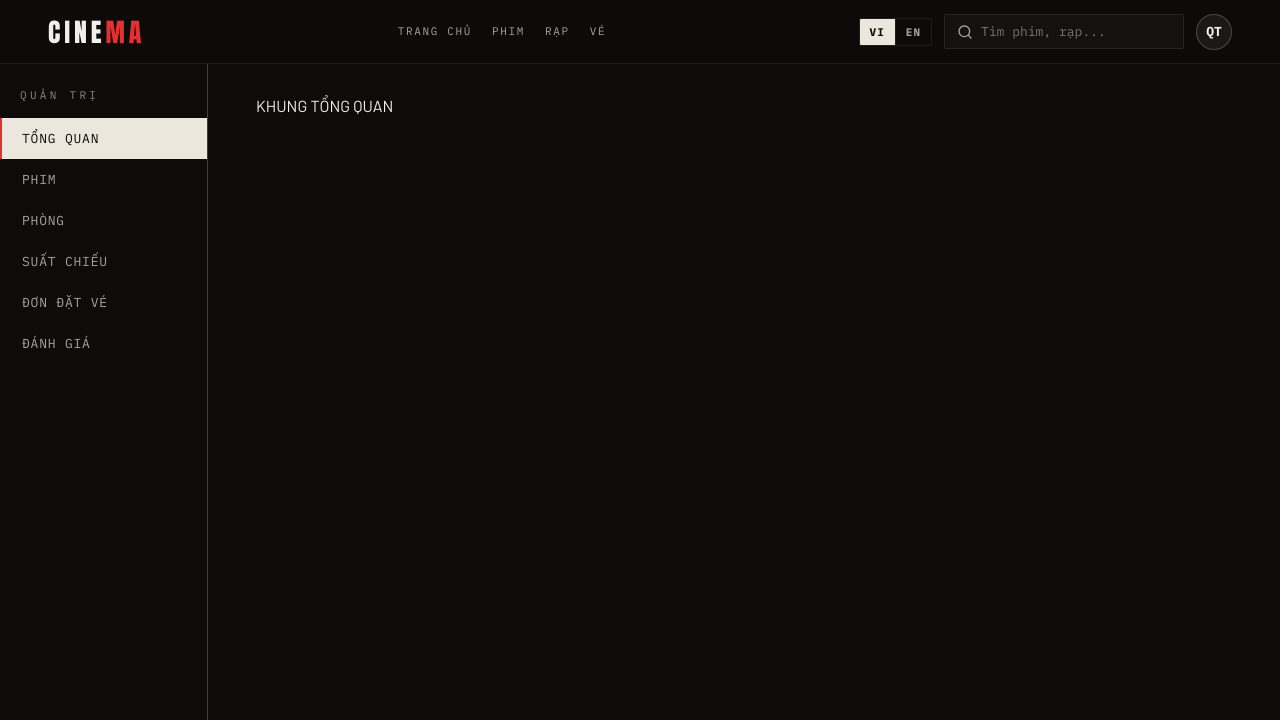
it: AdminLayout › đánh dấu mục đang mở và đổi khi chuyển trang
The width and height of the screenshot is (1280, 720).
Expected: the text "KHUNG TỔNG QUAN" is shown, [256, 96, 393, 115]
Click the link "Phim" below "Quản trị". click: (39, 180)
box: [22, 171, 56, 188]
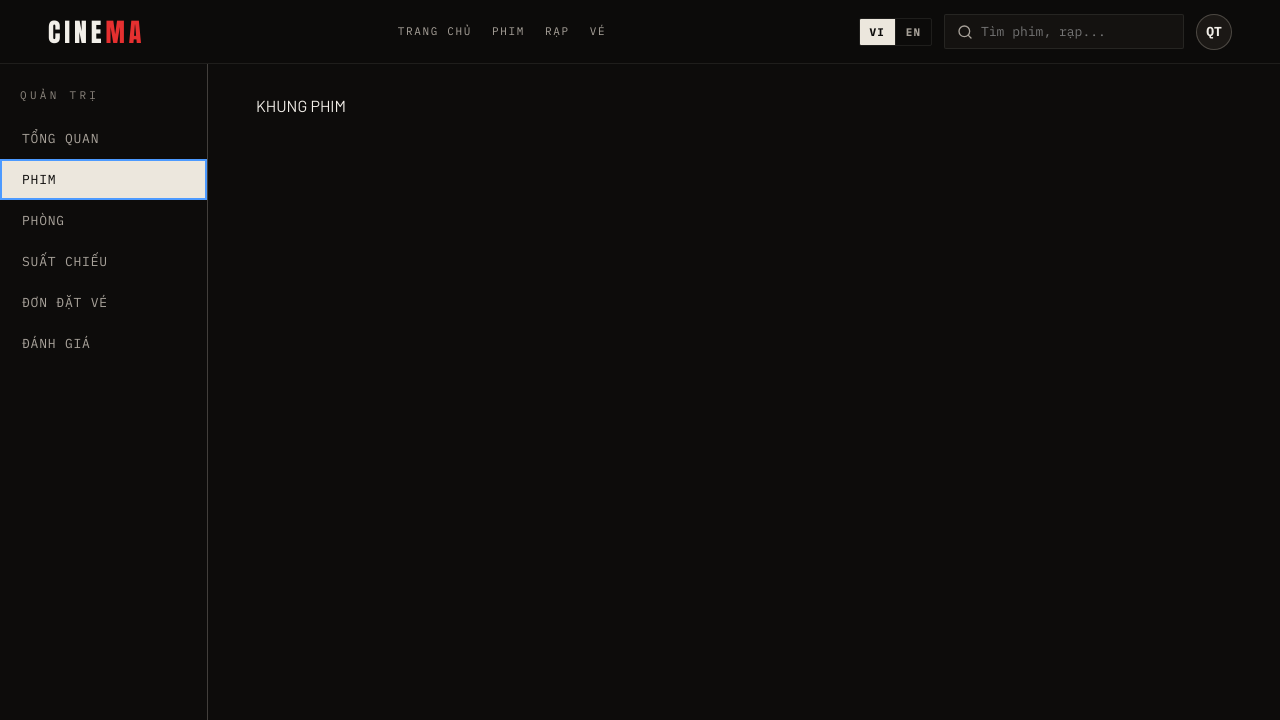
Result: the text "KHUNG PHIM" is shown at [256, 96, 346, 115]
